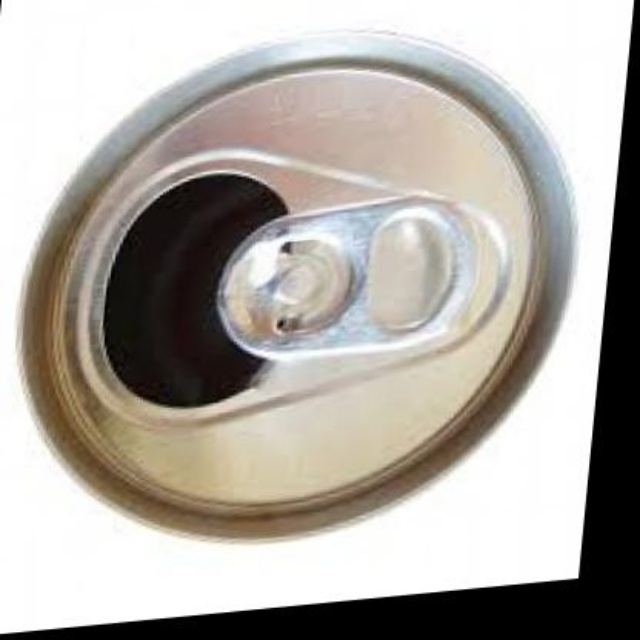trash: (22, 34, 572, 522)
